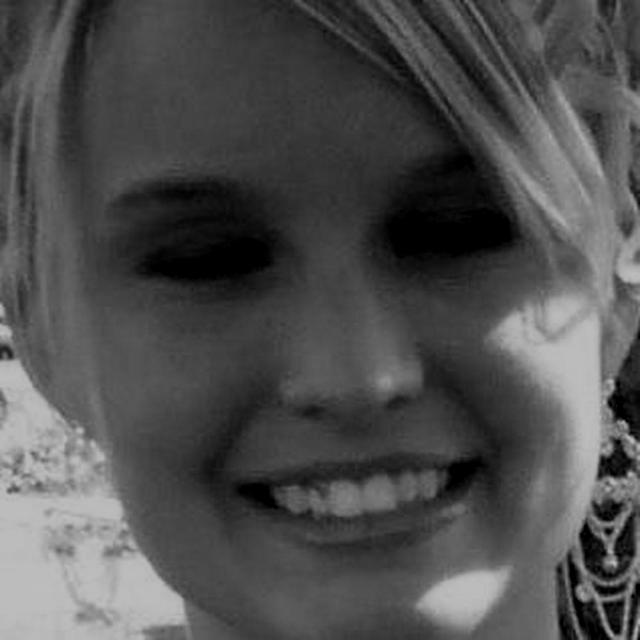real: (80, 0, 616, 640), (92, 177, 542, 312)
